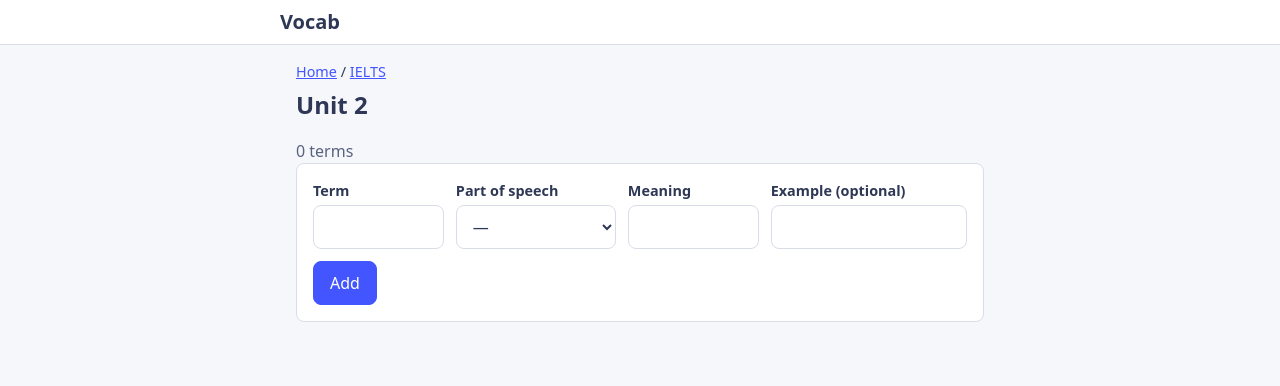
it: terms › shows field errors from validation
Expected: the heading "Unit 2" is shown, [296, 88, 368, 121]
Click the button "Add": [345, 283] box [313, 261, 377, 305]
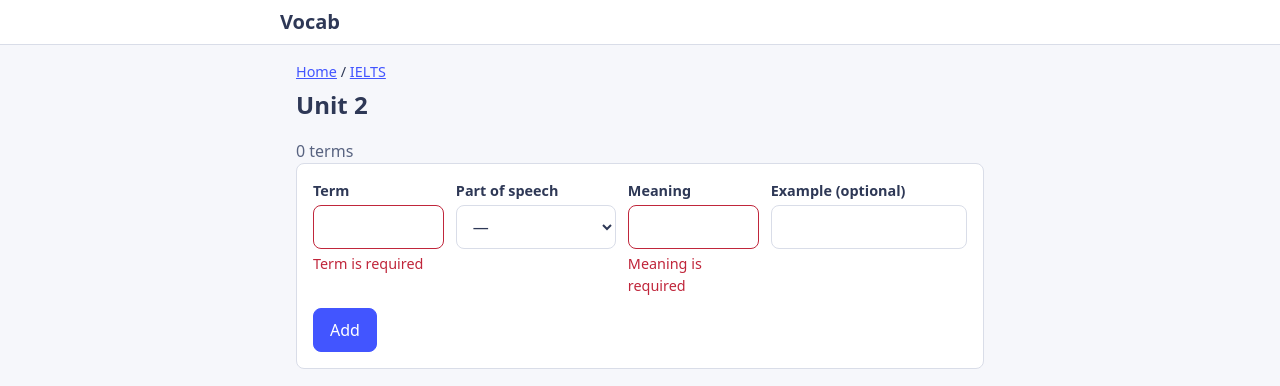
Expected: the text "Term is required" is shown, [313, 254, 424, 273]
Expected: the text "Meaning is required" is shown, [628, 254, 702, 295]
